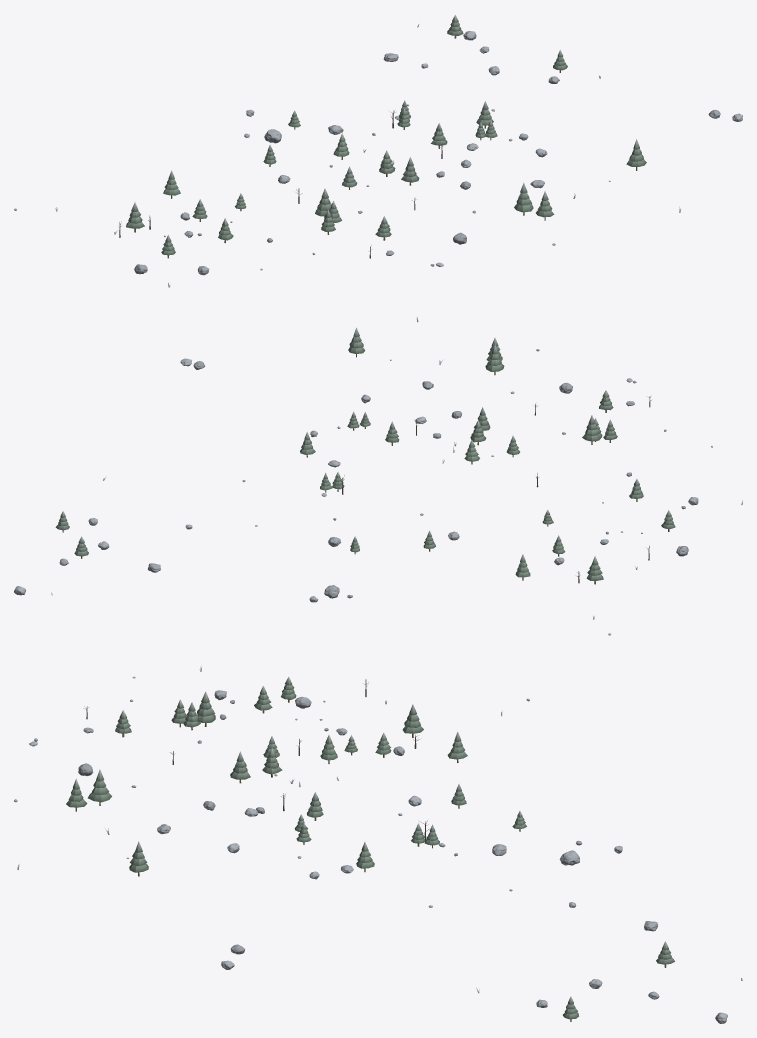
Rendered from frost_land_scatter_c19_11.glb.
The picture shows the model from 3 angles, top to bottom: view 1: azimuth 30°, elevation 25°; view 2: azimuth 150°, elevation 25°; view 3: azimuth 270°, elevation 25°; orthographic projection. The views are drawn at different scales.
Parts seen in each view (by area): view 1: frost_land_scatter_c19_11; view 2: frost_land_scatter_c19_11; view 3: frost_land_scatter_c19_11.
Boxes of the visible parts, <box> form: frost_land_scatter_c19_11: <box>14,15,742,287</box>; frost_land_scatter_c19_11: <box>14,317,742,635</box>; frost_land_scatter_c19_11: <box>14,665,742,1023</box>.
Size of the model in its own units: 257 by 48.87 by 247.
